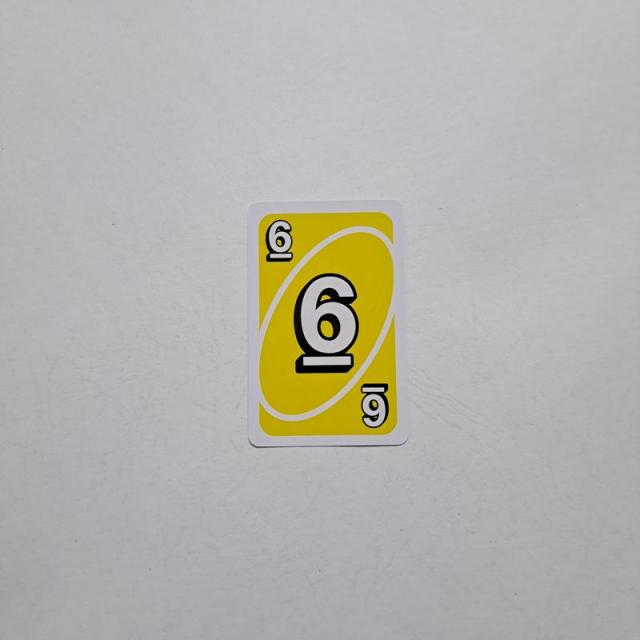Number_6: (264, 218, 297, 269)
Yellow_Card: (254, 206, 402, 442)
